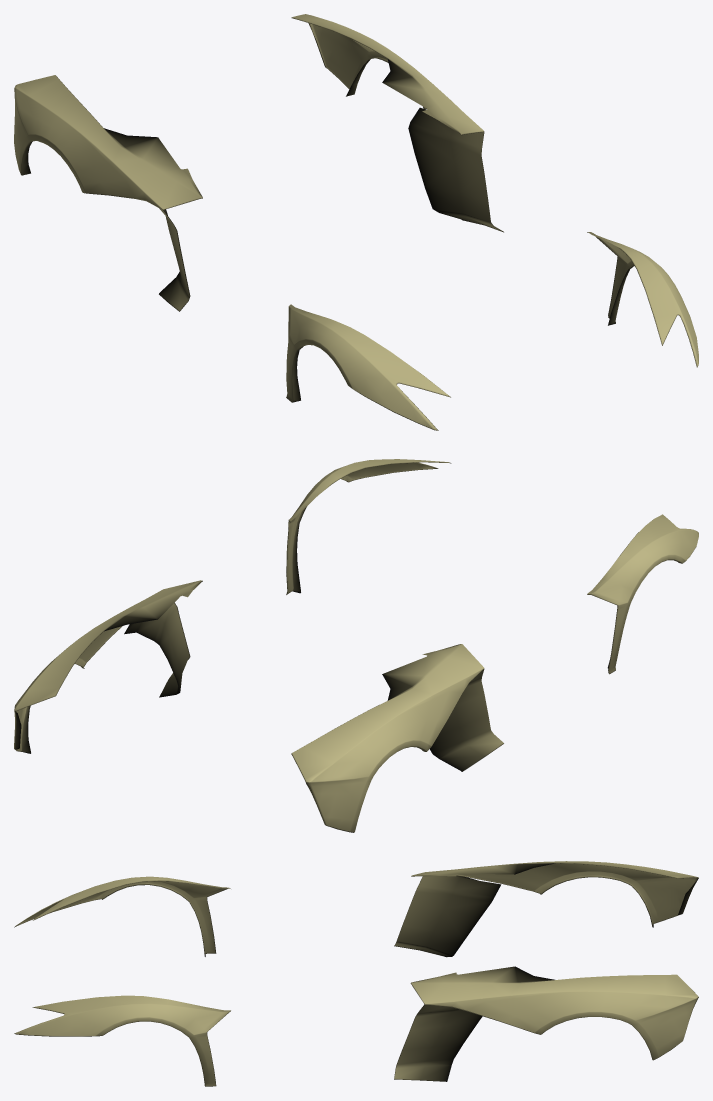
Rendered from Aventador_Fender_Duco.fbx.
3 views of the same model, one above another, from view 1: azimuth 30°, elevation 25°; view 2: azimuth 150°, elevation 25°; view 3: azimuth 270°, elevation 25° (orthographic). The views are drawn at different scales.
Parts seen in each view (by area): view 1: Aventador_Fender_Duco; view 2: Aventador_Fender_Duco; view 3: Aventador_Fender_Duco.
Boxes of the visible parts, x1,y1,x2,y2 form: Aventador_Fender_Duco: [14, 14, 698, 430]; Aventador_Fender_Duco: [14, 459, 698, 832]; Aventador_Fender_Duco: [14, 861, 698, 1086].
Size of the model in its own units: 203 by 66.66 by 414.
